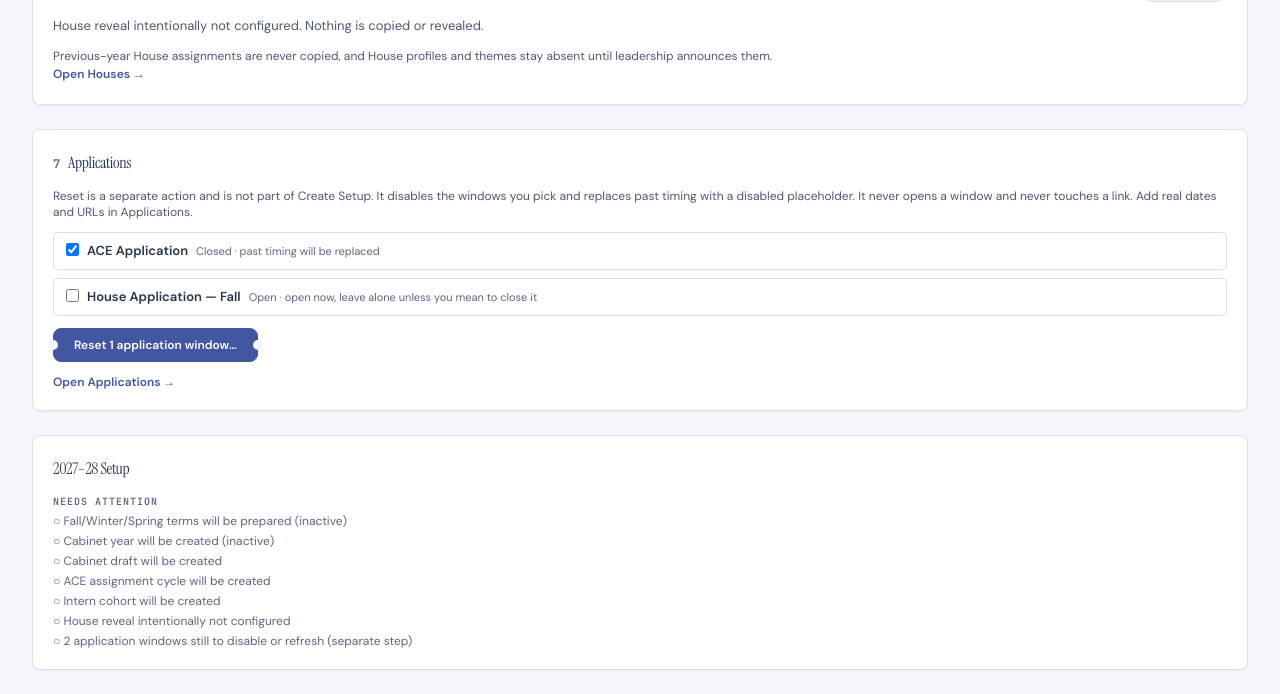
application reset › resets only the confirmed selection
This screenshot has width=1280, height=694.
(page scrolled)
Click the button "Reset 1 application window…".
click(155, 345)  # box [53,328,258,362]
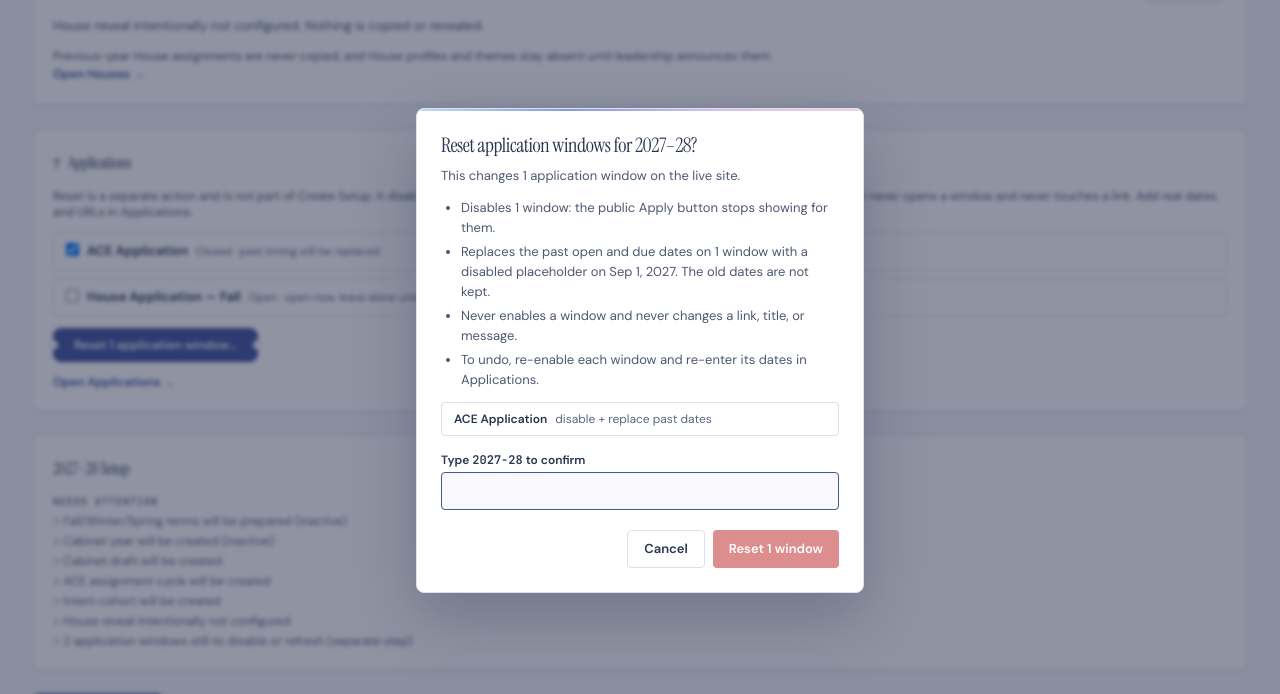
Type "2027-28" into the field labelled "Type 2027-28 to confirm".
click(640, 490); type("2027-28")  # box [441,472,839,510]
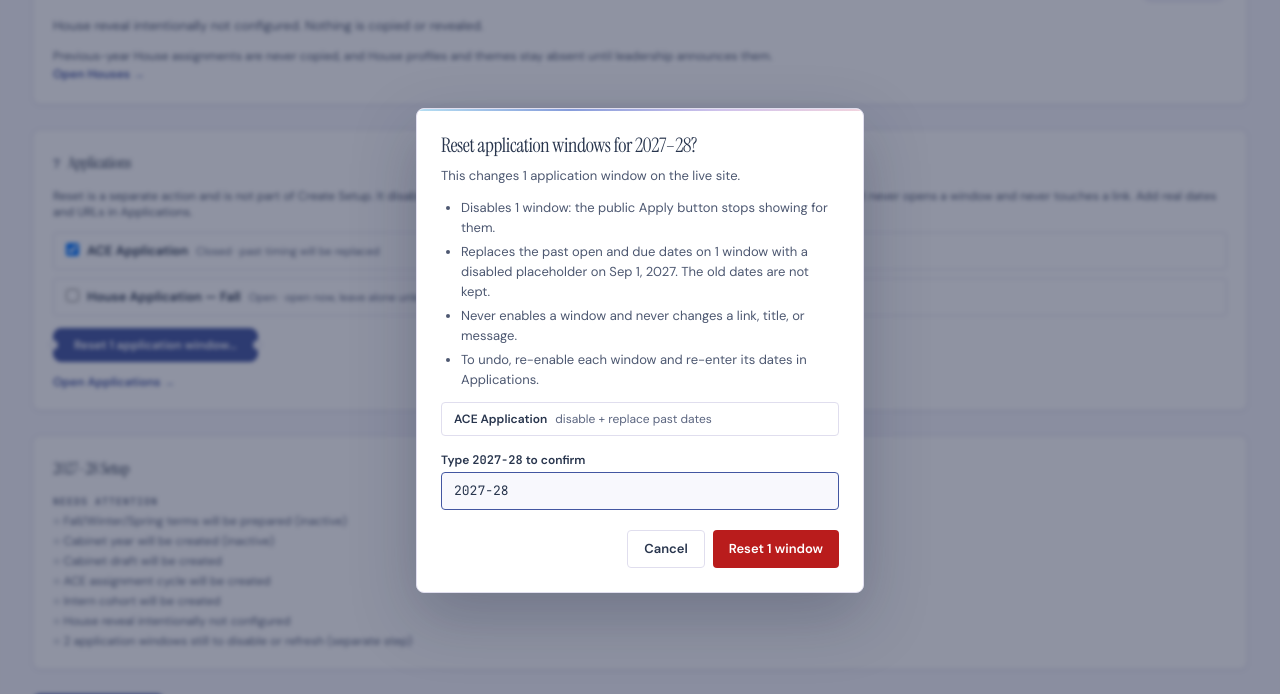
Click the button "Reset 1 window".
click(776, 548)  # box [713,530,839,568]
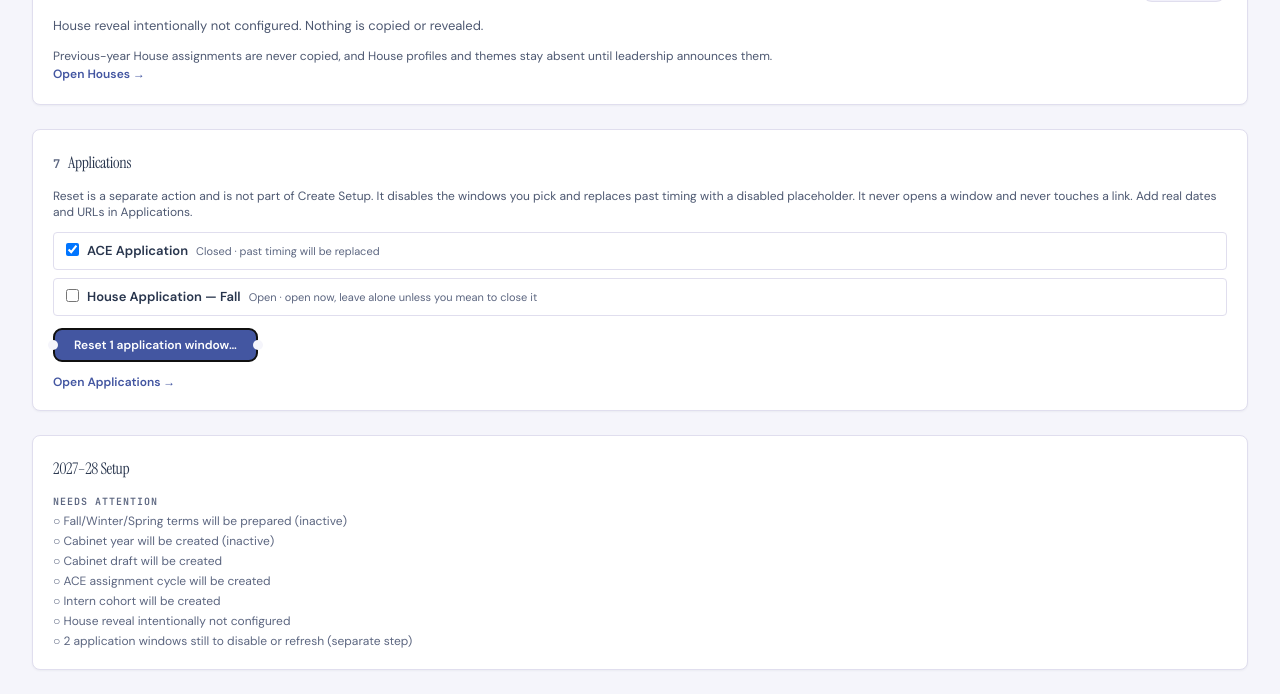
Now the dialog is gone
